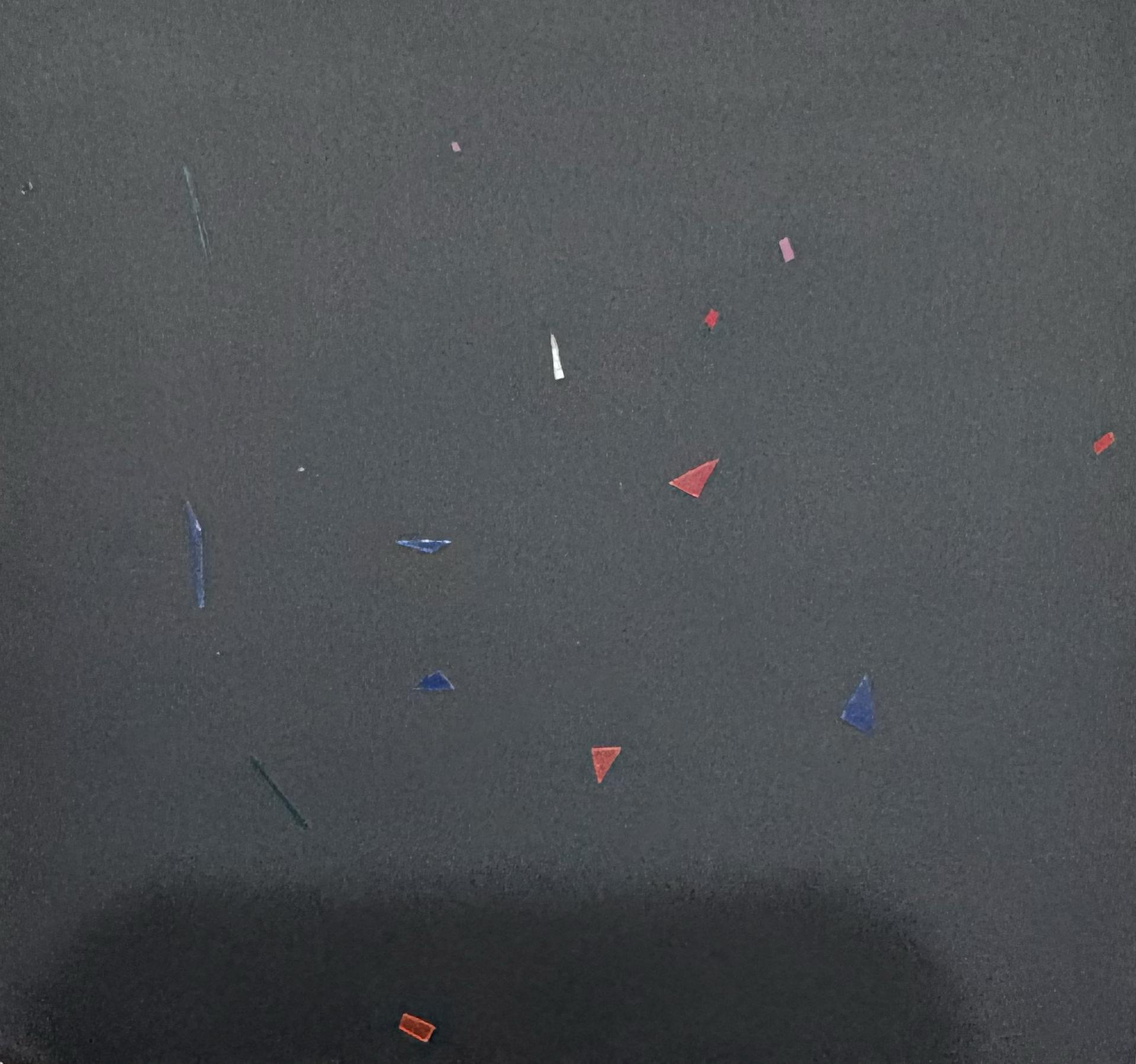Microplastic Particle: (248, 754, 309, 829), (179, 476, 212, 613), (181, 159, 214, 263), (840, 673, 874, 734), (669, 459, 719, 497), (399, 1012, 436, 1043), (591, 745, 621, 782), (395, 537, 452, 554), (414, 670, 454, 691), (550, 330, 564, 380), (1094, 431, 1116, 455), (778, 236, 794, 262), (703, 307, 721, 330), (450, 140, 461, 153), (27, 181, 35, 191), (21, 184, 27, 195), (298, 467, 302, 471)
